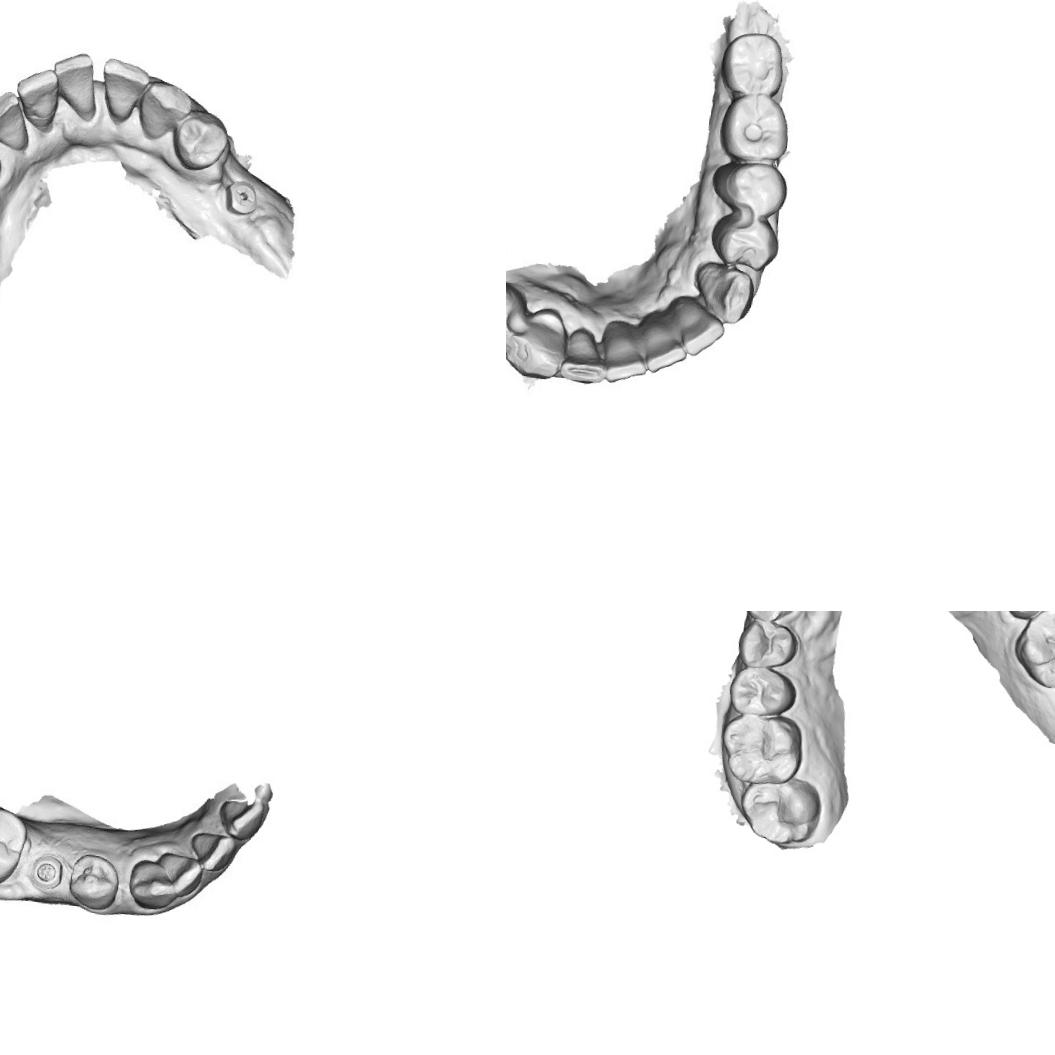canine: (506, 304, 569, 381), (133, 78, 197, 144), (696, 262, 756, 321), (124, 856, 179, 912), (739, 611, 801, 625)
implant: (25, 850, 70, 896)
implant_plus: (220, 175, 262, 219)
incisor: (46, 48, 102, 118), (96, 56, 154, 122), (12, 65, 63, 130), (674, 299, 728, 356), (558, 324, 606, 388), (602, 320, 652, 381), (216, 791, 270, 840), (643, 315, 689, 371), (190, 828, 240, 876), (0, 86, 35, 153), (161, 848, 203, 902)
molar: (713, 710, 808, 790), (736, 771, 826, 851), (712, 90, 799, 166), (721, 28, 794, 100), (1010, 611, 1055, 694), (0, 795, 31, 891)
premolar: (708, 154, 790, 221), (709, 208, 781, 276), (168, 108, 233, 175), (725, 664, 800, 721), (734, 616, 802, 674), (65, 852, 122, 913)
